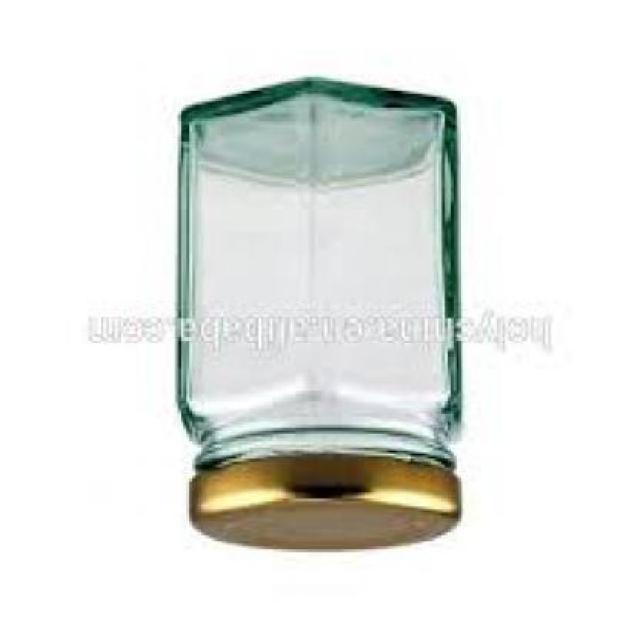GLASS: (181, 79, 462, 479)
METAL: (195, 464, 462, 556)
